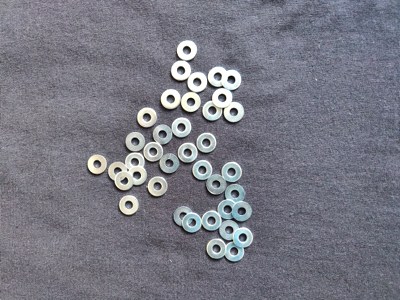circle: (135, 107, 160, 129), (176, 40, 201, 61), (231, 227, 254, 249), (216, 199, 239, 221), (223, 241, 247, 262), (87, 153, 108, 177), (147, 175, 169, 197), (205, 174, 227, 196), (125, 132, 147, 154), (182, 212, 203, 235), (224, 183, 247, 204), (160, 152, 181, 175), (203, 99, 224, 122), (177, 142, 199, 163), (143, 142, 164, 164), (160, 89, 182, 110), (224, 101, 245, 123), (212, 88, 234, 109), (221, 69, 243, 90), (170, 61, 192, 82), (119, 195, 140, 216), (173, 206, 194, 227), (220, 221, 241, 242), (222, 162, 243, 183), (170, 117, 191, 138), (202, 210, 222, 232), (181, 92, 201, 114), (193, 161, 214, 181), (197, 133, 218, 153), (114, 172, 135, 192), (127, 168, 148, 188), (126, 152, 147, 172), (153, 125, 173, 146), (208, 66, 228, 87), (187, 72, 208, 92), (108, 162, 128, 182), (207, 240, 228, 259), (233, 202, 253, 221)
